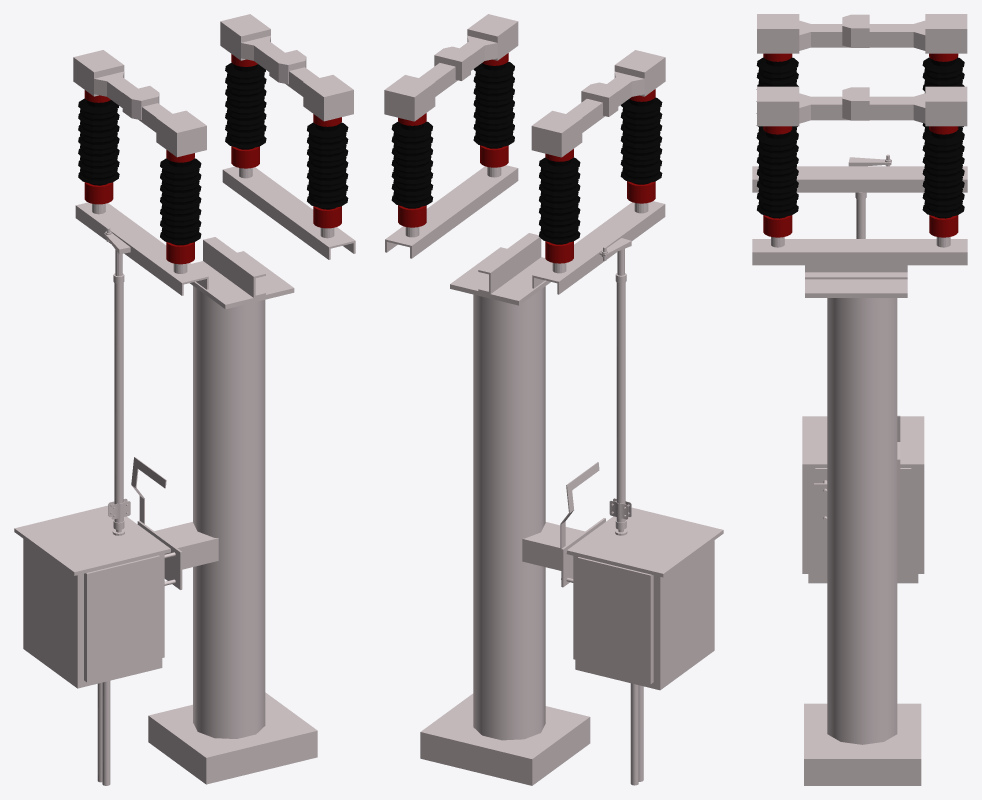
The model's file is 良庆站220kV_220kV_变电设备_一次设备_敞开_567722e.glb.
3 renders of one model, left to right at view 1: azimuth 30°, elevation 25°; view 2: azimuth 150°, elevation 25°; view 3: azimuth 270°, elevation 25°, orthographic.
Visible parts, largest first — view 1: 良庆站220kV_220kV_变电设备_一次设备_敞开_56772.029, 良庆站220kV_220kV_变电设备_一次设备_敞开_56772.027, 良庆站220kV_220kV_变电设备_一次设备_敞开_56772.052, 良庆站220kV_220kV_变电设备_一次设备_敞开_56772.038, 良庆站220kV_220kV_变电设备_一次设备_敞开_56772.046, 良庆站220kV_220kV_变电设备_一次设备_敞开_56772.037, 良庆站220kV_220kV_变电设备_一次设备_敞开_56772.047, 良庆站220kV_220kV_变电设备_一次设备_敞开_56772.031, 良庆站220kV_220kV_变电设备_一次设备_敞开_56772.044, 良庆站220kV_220kV_变电设备_一次设备_敞开_56772.034, 良庆站220kV_220kV_变电设备_一次设备_敞开_56772.049, 良庆站220kV_220kV_变电设备_一次设备_敞开_56772.030 (+16 smaller); view 2: 良庆站220kV_220kV_变电设备_一次设备_敞开_56772.029, 良庆站220kV_220kV_变电设备_一次设备_敞开_56772.027, 良庆站220kV_220kV_变电设备_一次设备_敞开_56772.052, 良庆站220kV_220kV_变电设备_一次设备_敞开_56772.038, 良庆站220kV_220kV_变电设备_一次设备_敞开_56772.046, 良庆站220kV_220kV_变电设备_一次设备_敞开_56772.031, 良庆站220kV_220kV_变电设备_一次设备_敞开_56772.044, 良庆站220kV_220kV_变电设备_一次设备_敞开_56772.047, 良庆站220kV_220kV_变电设备_一次设备_敞开_56772.037, 良庆站220kV_220kV_变电设备_一次设备_敞开_56772.051, 良庆站220kV_220kV_变电设备_一次设备_敞开_56772.036, 良庆站220kV_220kV_变电设备_一次设备_敞开_56772.030 (+15 smaller); view 3: 良庆站220kV_220kV_变电设备_一次设备_敞开_56772.029, 良庆站220kV_220kV_变电设备_一次设备_敞开_56772.027, 良庆站220kV_220kV_变电设备_一次设备_敞开_56772.052, 良庆站220kV_220kV_变电设备_一次设备_敞开_56772.038, 良庆站220kV_220kV_变电设备_一次设备_敞开_56772.046, 良庆站220kV_220kV_变电设备_一次设备_敞开_56772.031, 良庆站220kV_220kV_变电设备_一次设备_敞开_56772.037, 良庆站220kV_220kV_变电设备_一次设备_敞开_56772.036, 良庆站220kV_220kV_变电设备_一次设备_敞开_56772.051, 良庆站220kV_220kV_变电设备_一次设备_敞开_56772.034, 良庆站220kV_220kV_变电设备_一次设备_敞开_56772.049, 良庆站220kV_220kV_变电设备_一次设备_敞开_56772.030 (+9 smaller).
Part boxes in pixels (box(x1,y1,x2,y2)): 良庆站220kV_220kV_变电设备_一次设备_敞开_56772.029: box(193, 286, 265, 738); 良庆站220kV_220kV_变电设备_一次设备_敞开_56772.027: box(14, 505, 170, 688); 良庆站220kV_220kV_变电设备_一次设备_敞开_56772.052: box(148, 692, 317, 784); 良庆站220kV_220kV_变电设备_一次设备_敞开_56772.038: box(222, 166, 355, 259); 良庆站220kV_220kV_变电设备_一次设备_敞开_56772.046: box(75, 202, 208, 295); 良庆站220kV_220kV_变电设备_一次设备_敞开_56772.037: box(306, 122, 348, 209); 良庆站220kV_220kV_变电设备_一次设备_敞开_56772.047: box(160, 158, 201, 245); 良庆站220kV_220kV_变电设备_一次设备_敞开_56772.031: box(225, 62, 266, 149); 良庆站220kV_220kV_变电设备_一次设备_敞开_56772.044: box(78, 98, 119, 185); 良庆站220kV_220kV_变电设备_一次设备_敞开_56772.034: box(286, 67, 353, 121); 良庆站220kV_220kV_变电设备_一次设备_敞开_56772.049: box(138, 103, 206, 157); 良庆站220kV_220kV_变电设备_一次设备_敞开_56772.030: box(190, 251, 294, 309); 良庆站220kV_220kV_变电设备_一次设备_敞开_56772.029: box(473, 286, 545, 740); 良庆站220kV_220kV_变电设备_一次设备_敞开_56772.027: box(567, 507, 723, 690); 良庆站220kV_220kV_变电设备_一次设备_敞开_56772.052: box(420, 693, 590, 785); 良庆站220kV_220kV_变电设备_一次设备_敞开_56772.038: box(385, 165, 518, 258); 良庆站220kV_220kV_变电设备_一次设备_敞开_56772.046: box(532, 201, 665, 294); 良庆站220kV_220kV_变电设备_一次设备_敞开_56772.031: box(391, 121, 433, 208); 良庆站220kV_220kV_变电设备_一次设备_敞开_56772.044: box(539, 157, 580, 244); 良庆站220kV_220kV_变电设备_一次设备_敞开_56772.047: box(620, 97, 662, 184); 良庆站220kV_220kV_变电设备_一次设备_敞开_56772.037: box(473, 61, 514, 148); 良庆站220kV_220kV_变电设备_一次设备_敞开_56772.051: box(531, 99, 604, 157); 良庆站220kV_220kV_变电设备_一次设备_敞开_56772.036: box(384, 63, 457, 121); 良庆站220kV_220kV_变电设备_一次设备_敞开_56772.030: box(450, 247, 550, 305); 良庆站220kV_220kV_变电设备_一次设备_敞开_56772.029: box(827, 298, 897, 744); 良庆站220kV_220kV_变电设备_一次设备_敞开_56772.027: box(802, 416, 924, 583); 良庆站220kV_220kV_变电设备_一次设备_敞开_56772.052: box(804, 703, 921, 785); 良庆站220kV_220kV_变电设备_一次设备_敞开_56772.038: box(752, 239, 967, 265); 良庆站220kV_220kV_变电设备_一次设备_敞开_56772.046: box(752, 166, 967, 192); 良庆站220kV_220kV_变电设备_一次设备_敞开_56772.031: box(922, 130, 964, 218); 良庆站220kV_220kV_变电设备_一次设备_敞开_56772.037: box(757, 130, 798, 218); 良庆站220kV_220kV_变电设备_一次设备_敞开_56772.036: box(869, 86, 967, 126); 良庆站220kV_220kV_变电设备_一次设备_敞开_56772.051: box(869, 14, 967, 53); 良庆站220kV_220kV_变电设备_一次设备_敞开_56772.034: box(757, 86, 849, 126); 良庆站220kV_220kV_变电设备_一次设备_敞开_56772.049: box(757, 14, 849, 53); 良庆站220kV_220kV_变电设备_一次设备_敞开_56772.030: box(805, 279, 907, 297).
Size of the model in its own units: 1.42 by 3.57 by 1.01.
